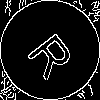R: (25, 25, 84, 82)
